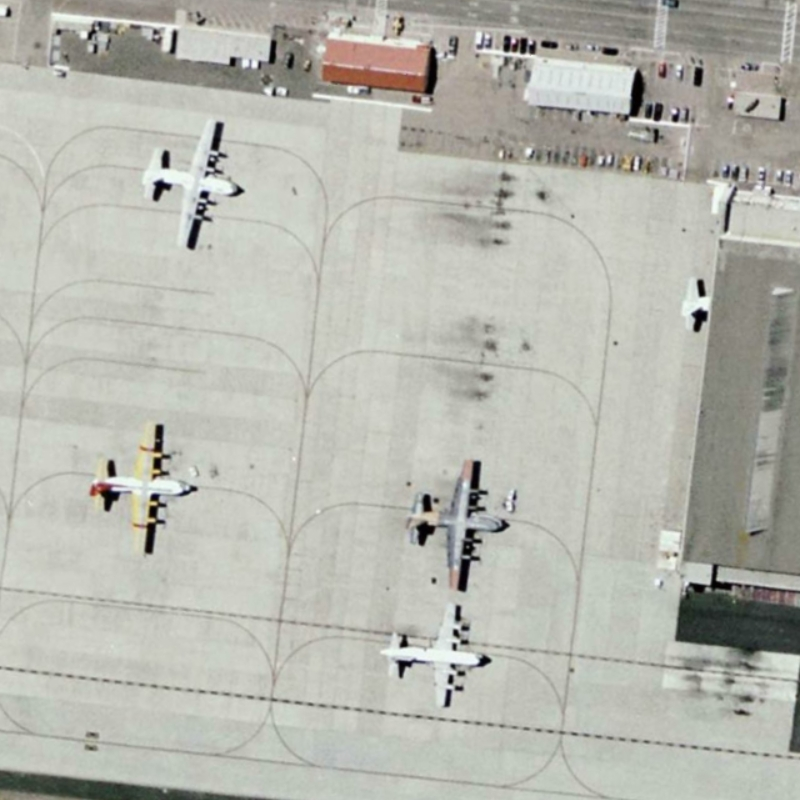A2: (80, 416, 199, 561), (395, 444, 510, 591), (136, 111, 246, 255)
A9: (382, 594, 490, 715)
